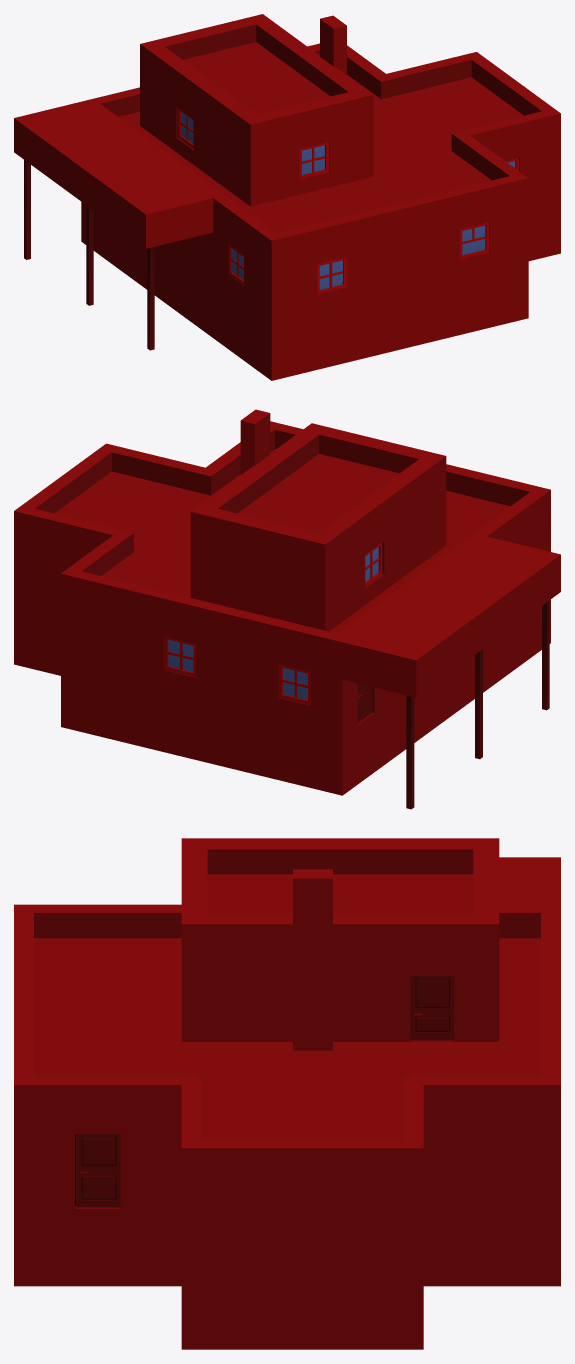
Rendered from buildings-residential-adobehouse_v1.fbx.
The picture shows the model from 3 angles, top to bottom: view 1: azimuth 30°, elevation 25°; view 2: azimuth 150°, elevation 25°; view 3: azimuth 270°, elevation 25°; orthographic projection. The views are drawn at different scales.
Visible parts, largest first — view 1: AdobeHouse_v1_base, AdobeHouse_v1_windowRefl; view 2: AdobeHouse_v1_base, AdobeHouse_v1_windowRefl; view 3: AdobeHouse_v1_base.
Boxes of the visible parts, x1,y1,x2,y2 form: AdobeHouse_v1_base: (14,14,560,380); AdobeHouse_v1_windowRefl: (181,112,515,289); AdobeHouse_v1_base: (14,409,560,809); AdobeHouse_v1_windowRefl: (168,547,378,699); AdobeHouse_v1_base: (14,838,560,1349).
Bounding box in the file's own units: 27.71 × 15.46 × 22.01.
